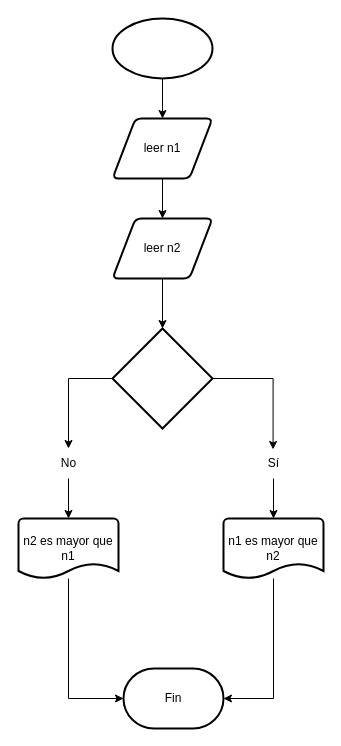
The diagram is 341 pixels wide and 746 high, and some of its shapes have lost their labels. Each missing label, with the centre of its shape:
"Inicio" belongs at point 162,48.
"n1>n2" belongs at point 162,378.
